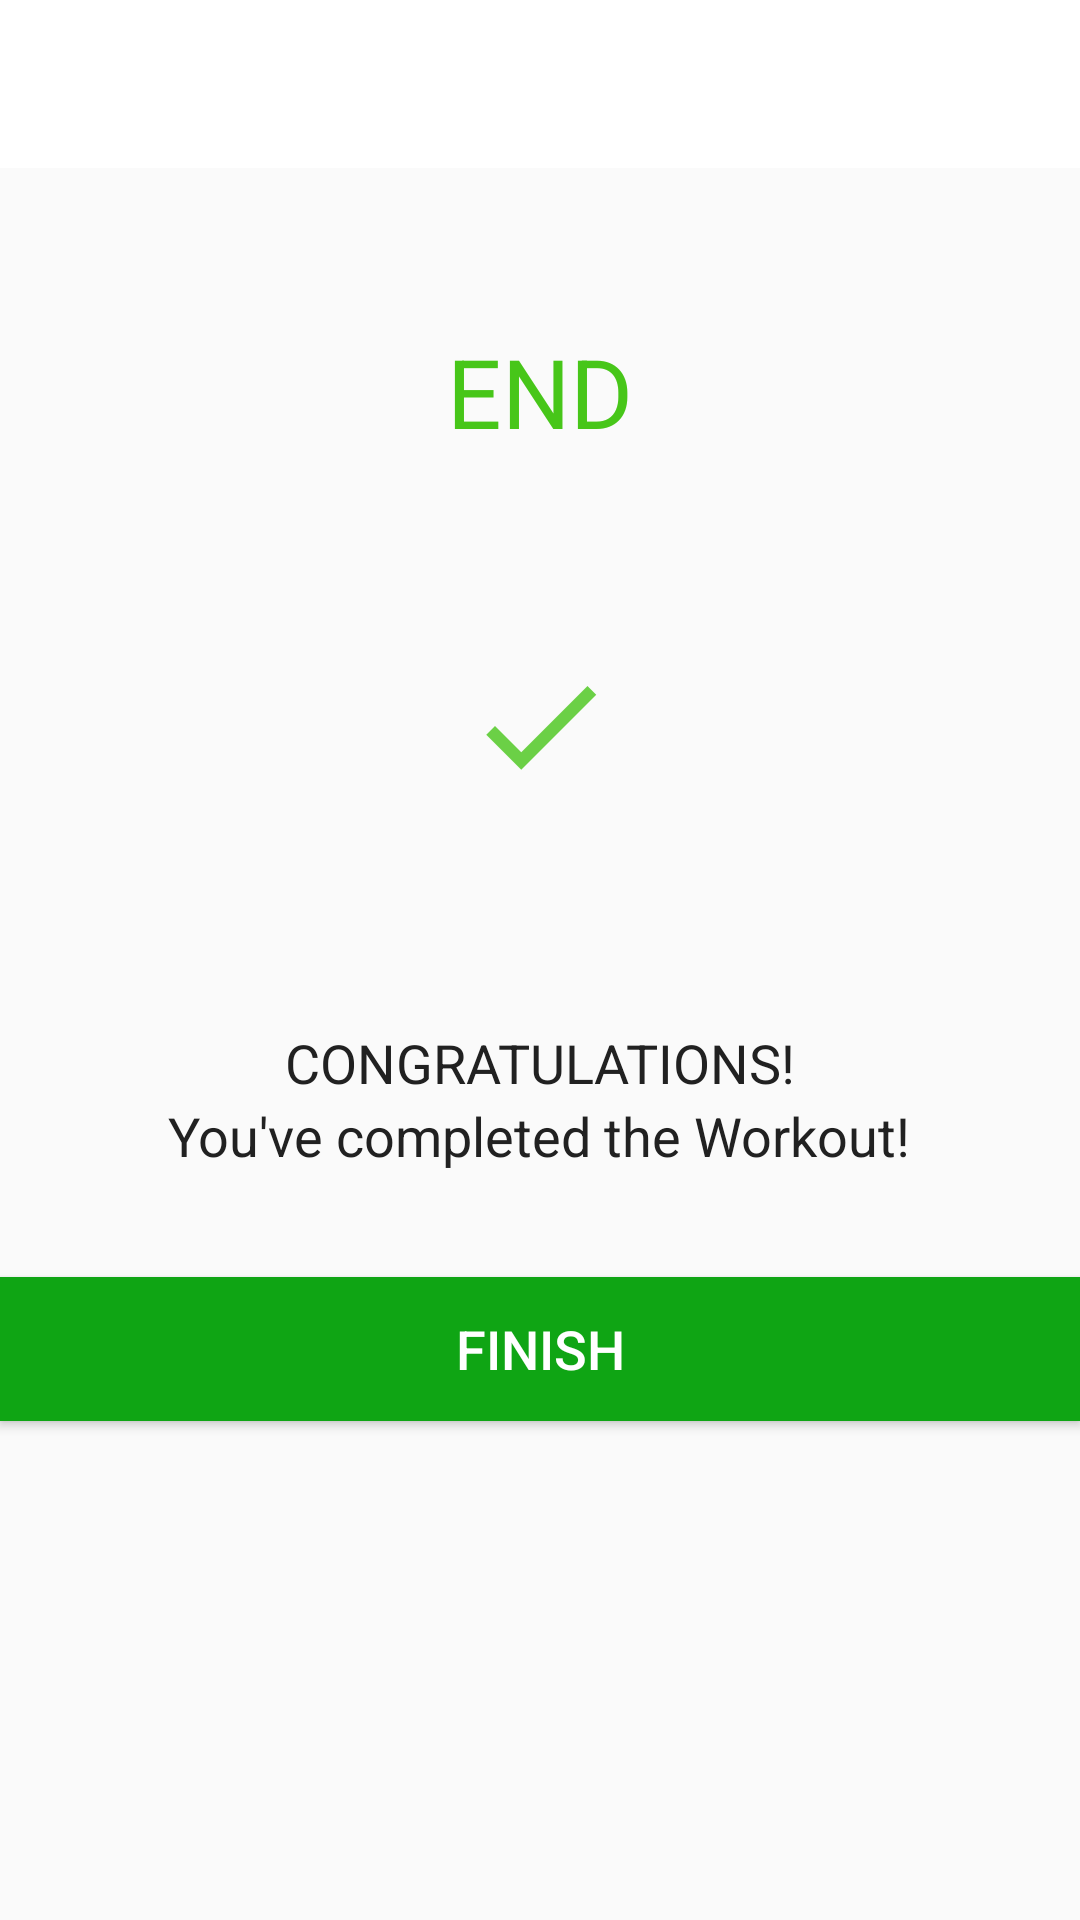

Locate icon controls on the screen. Image size 1080x1920, boxes as (x1, y1, x2, y2).
done: (486, 686, 596, 770)
